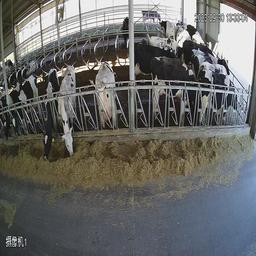cow: (150, 53, 200, 141), (201, 64, 245, 148), (7, 65, 39, 166), (92, 50, 125, 144), (58, 57, 81, 165), (41, 58, 59, 171), (134, 32, 180, 73), (198, 41, 232, 71), (180, 22, 206, 52), (159, 15, 181, 34)
